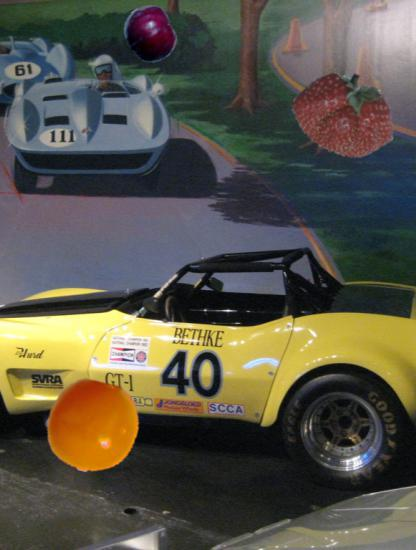Physalis: (46, 379, 140, 473)
Plum: (122, 5, 180, 63)
Strawberry: (292, 60, 400, 168)
